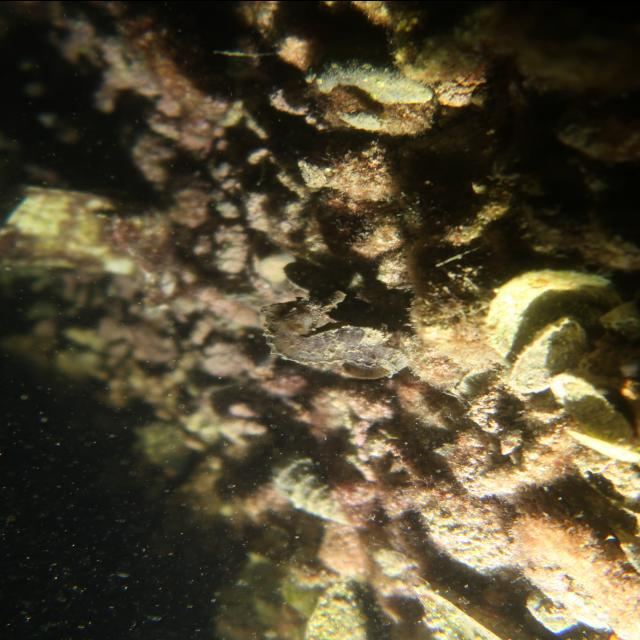Hippo: (257, 284, 355, 334)
